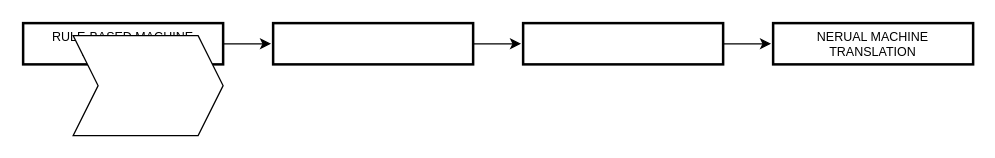
This 995x158 diagram has some shape labels left out. Each missing label, with the centre of its shape:
"EXAMPLE-BASED MACHINE TRANSLTAT" goes at (372,43).
"STATISTICAL-BASED MACHINE TRANSLATION" goes at (622,43).
